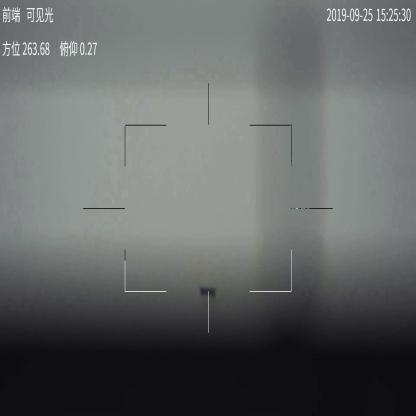uav: (200, 282, 218, 300)
